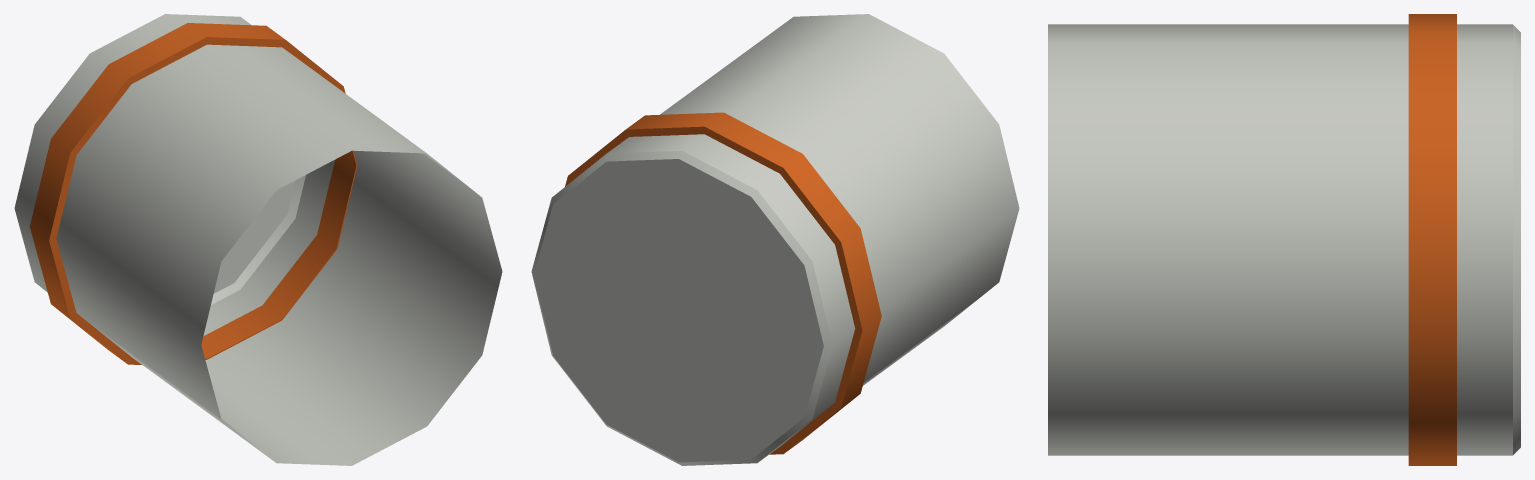
The model's file is u33_housing.obj.
The picture shows the model from 3 angles, left to right: view 1: azimuth 30°, elevation 25°; view 2: azimuth 150°, elevation 25°; view 3: azimuth 270°, elevation 25°; orthographic projection. The views are drawn at different scales.
Visible parts, largest first — view 1: u33_housing; view 2: u33_housing; view 3: u33_housing.
Boxes of the visible parts, left/top/right/bottom form: u33_housing: left=14, top=14, right=502, bottom=465; u33_housing: left=531, top=14, right=1019, bottom=465; u33_housing: left=1048, top=14, right=1520, bottom=465.
Size of the model in its own units: 2.83 by 2.83 by 2.95.
